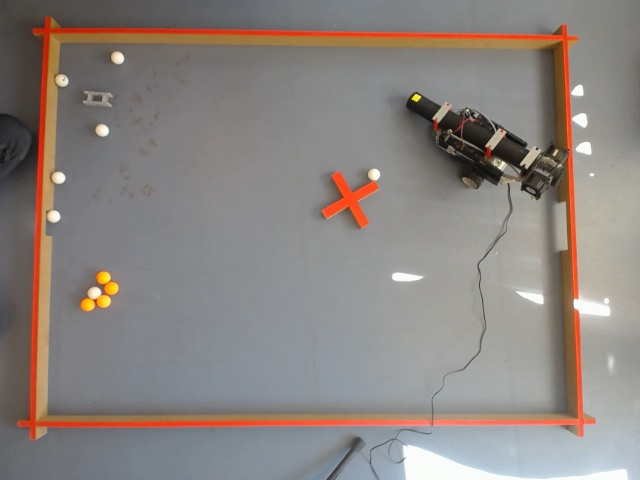orange: (97, 275, 116, 294), (78, 296, 97, 314), (94, 293, 112, 311), (95, 269, 112, 287), (102, 279, 120, 296), (89, 283, 104, 303)
robot: (393, 102, 571, 204)
white: (0, 0, 64, 80), (598, 468, 629, 480), (92, 123, 111, 140), (109, 50, 126, 68), (54, 73, 71, 90), (50, 170, 68, 186), (366, 167, 382, 183), (86, 285, 102, 301), (46, 209, 62, 224), (572, 83, 584, 97)
